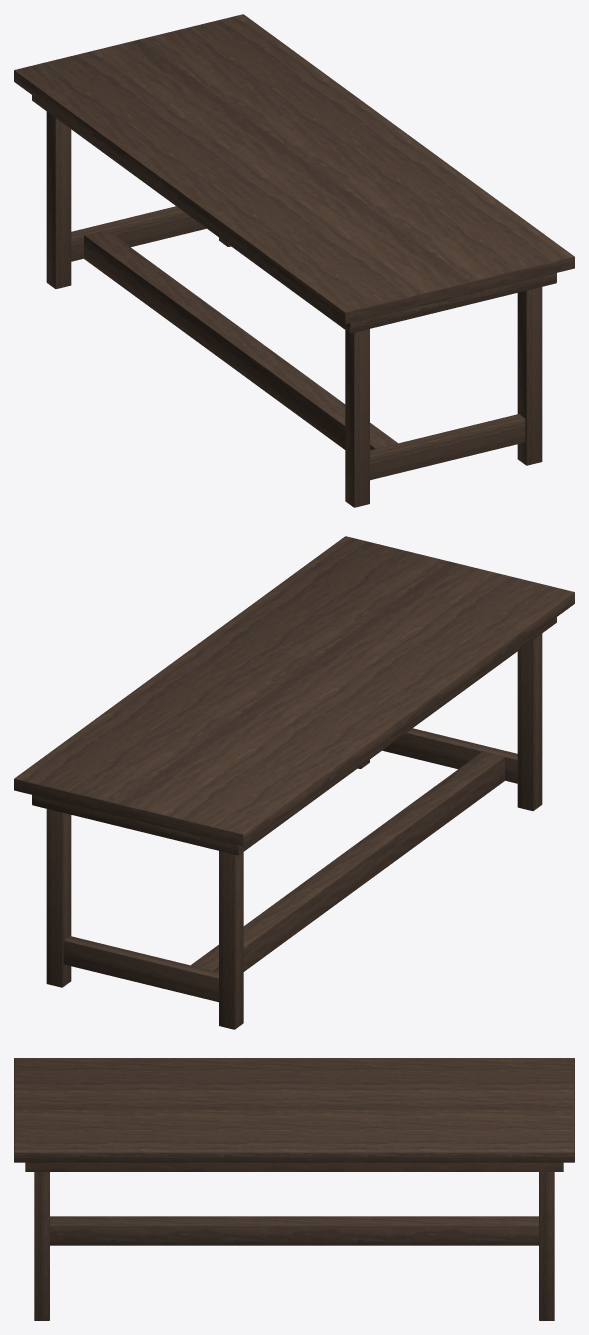
File: room2_table.FBX
3 renders of one model, top to bottom at view 1: azimuth 30°, elevation 25°; view 2: azimuth 150°, elevation 25°; view 3: azimuth 270°, elevation 25°, orthographic. The views are drawn at different scales.
Parts seen in each view (by area): view 1: Box255; view 2: Box255; view 3: Box255.
Boxes of the visible parts, x1,y1,x2,y2 form: Box255: (14, 14, 574, 507); Box255: (14, 536, 574, 1029); Box255: (14, 1058, 574, 1320).
Bounding box in the file's own units: 10 × 8.7 × 25.
